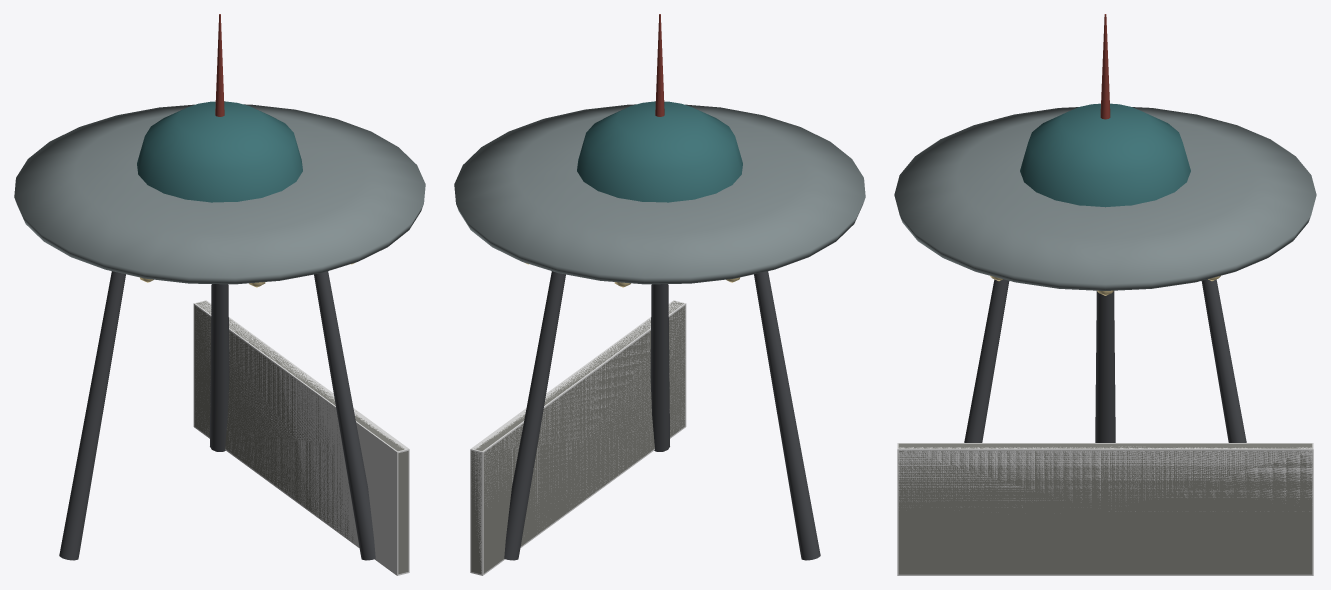
File: stop-10.glb
3 views of the same model, side by side, from view 1: azimuth 30°, elevation 25°; view 2: azimuth 150°, elevation 25°; view 3: azimuth 270°, elevation 25° (orthographic). The views are drawn at different scales.
Parts seen in each view (by area): view 1: 01_#7f8a8c, solid, 05_#85857f, 00_#4c4e52, 02_paint0, 03_paint2; view 2: 01_#7f8a8c, 05_#85857f, 00_#4c4e52, 02_paint0, solid, 03_paint2; view 3: 05_#85857f, 01_#7f8a8c, solid, 02_paint0, 00_#4c4e52, 03_paint2.
Boxes of the visible parts, <box> form: 01_#7f8a8c: <box>14,104,425,284</box>; solid: <box>193,300,409,575</box>; 05_#85857f: <box>194,301,408,574</box>; 00_#4c4e52: <box>59,271,375,560</box>; 02_paint0: <box>137,101,302,202</box>; 03_paint2: <box>215,14,224,116</box>; 01_#7f8a8c: <box>454,104,865,284</box>; 05_#85857f: <box>471,301,685,573</box>; 00_#4c4e52: <box>504,271,820,560</box>; 02_paint0: <box>577,101,742,202</box>; solid: <box>470,300,686,575</box>; 03_paint2: <box>655,14,664,116</box>; 05_#85857f: <box>898,443,1312,574</box>; 01_#7f8a8c: <box>894,107,1316,290</box>; solid: <box>897,443,1313,575</box>; 02_paint0: <box>1020,103,1190,207</box>; 00_#4c4e52: <box>964,279,1246,442</box>; 03_paint2: <box>1100,14,1110,119</box>.
Size of the model in its own units: 2.84 by 3.85 by 2.84.
